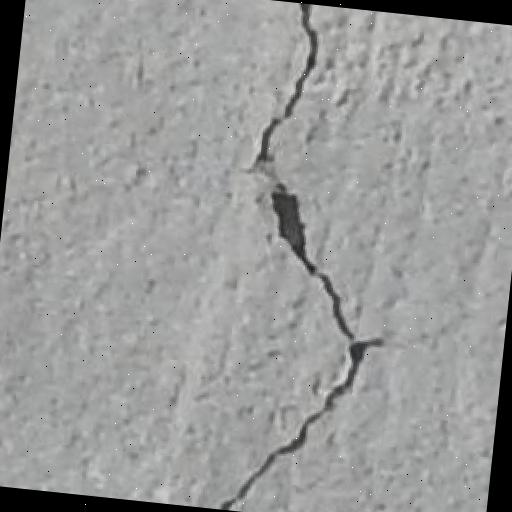spalling: (216, 3, 382, 505)
